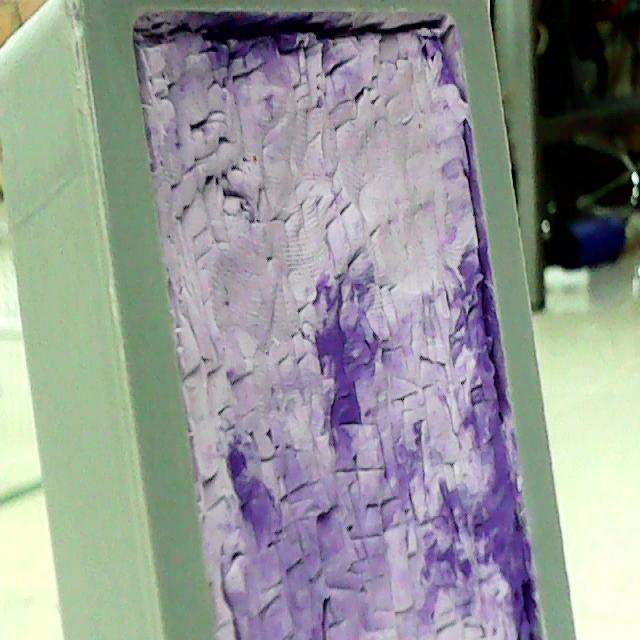block: (2, 1, 585, 640)
